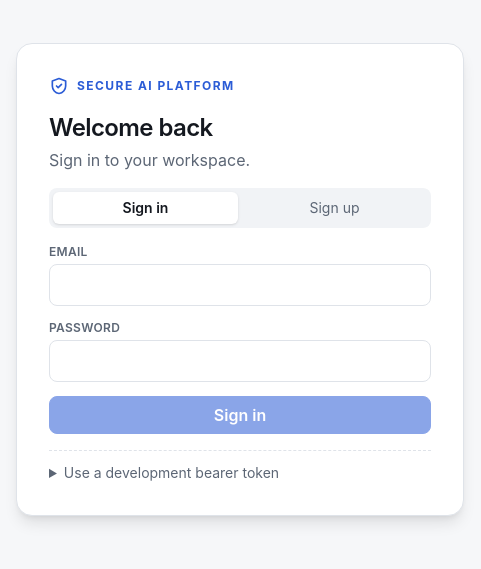
Test: Accounts › shows the server's message for a wrong password
Type "ada@example.com" into the field labelled "Email" at (240, 284), box x1=49 y1=264 x2=431 y2=306
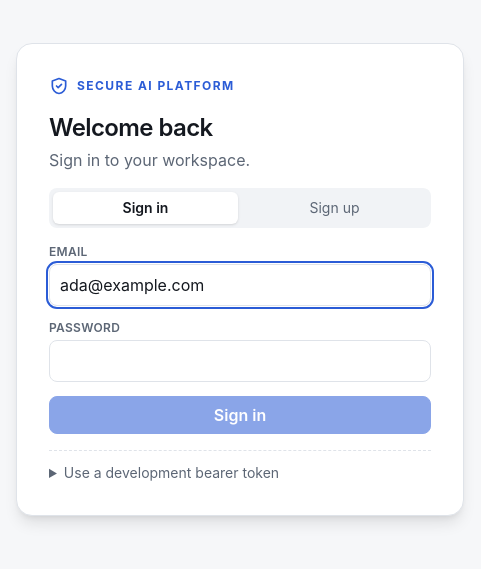
Type "nope" into the password field labelled "Password" at (240, 360), box x1=49 y1=340 x2=431 y2=382
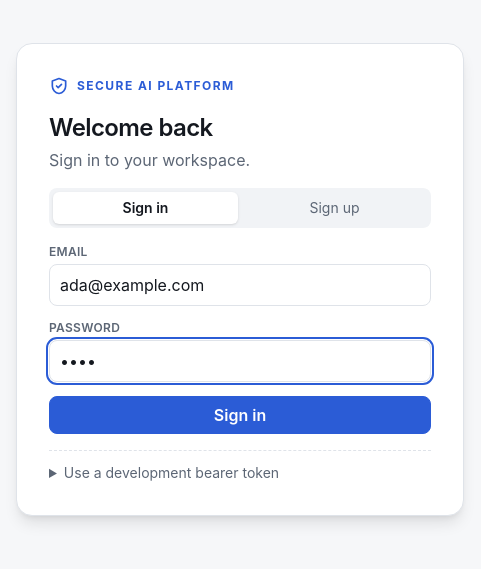
Click the button "Sign in" at (240, 414), box x1=49 y1=396 x2=431 y2=434
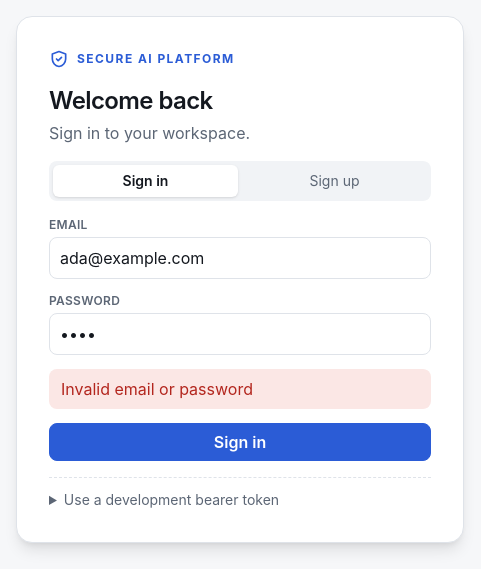
Now the message reads "Invalid email or password", box x1=61 y1=378 x2=253 y2=398
